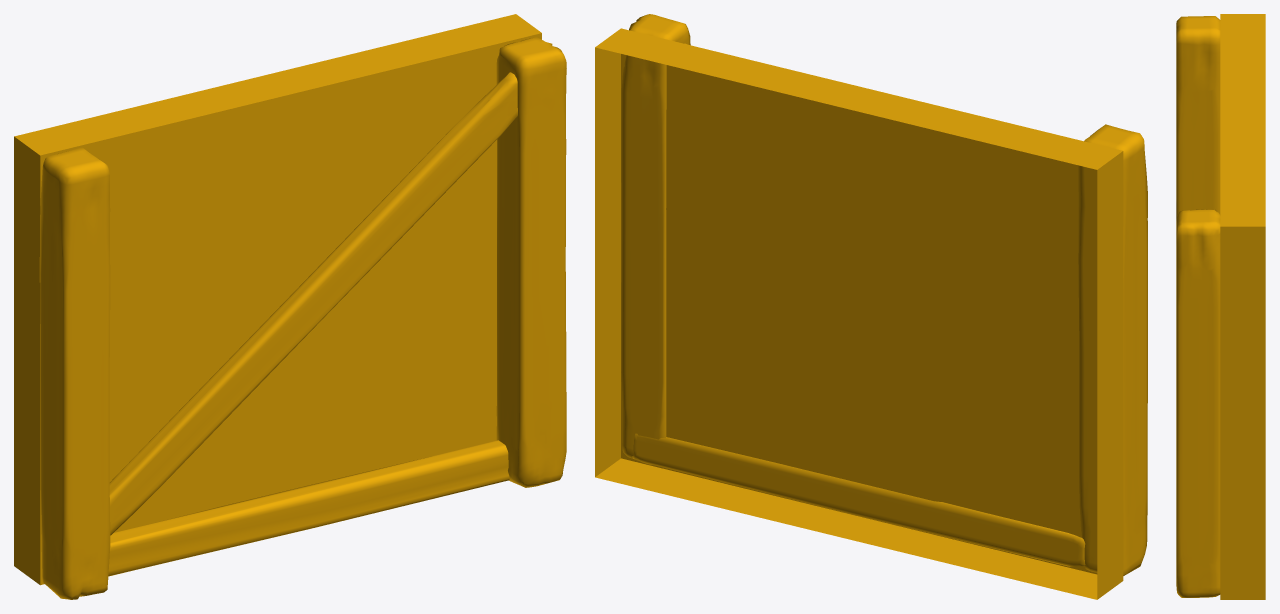
File: Var2Wall_Low.fbx
The picture shows the model from 3 angles, left to right: view 1: azimuth 30°, elevation 25°; view 2: azimuth 150°, elevation 25°; view 3: azimuth 270°, elevation 25°; orthographic projection. The views are drawn at different scales.
Parts seen in each view (by area): view 1: WallFace_Low, WallLeft_Low, WallRight_Low, UpWood_Low, WallBottom_Low; view 2: WallFace_Low, WallLeft_Low, WallRight_Low, WallBottom_Low; view 3: WallFace_Low, WallRight_Low, WallLeft_Low.
Part boxes in pixels (x1,y1,x2,y2): WallFace_Low: (14, 14, 541, 585); WallLeft_Low: (39, 147, 110, 599); WallRight_Low: (496, 37, 566, 487); UpWood_Low: (109, 72, 517, 535); WallBottom_Low: (108, 440, 509, 576); WallFace_Low: (595, 28, 1123, 599); WallLeft_Low: (1078, 124, 1147, 575); WallRight_Low: (621, 14, 690, 465); WallBottom_Low: (632, 433, 1085, 566); WallFace_Low: (1220, 14, 1265, 599); WallRight_Low: (1176, 209, 1220, 597); WallLeft_Low: (1176, 16, 1220, 220).
Size of the model in its own units: 611 by 500 by 108.
